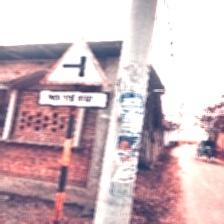Side-road-left: (37, 43, 110, 109)
